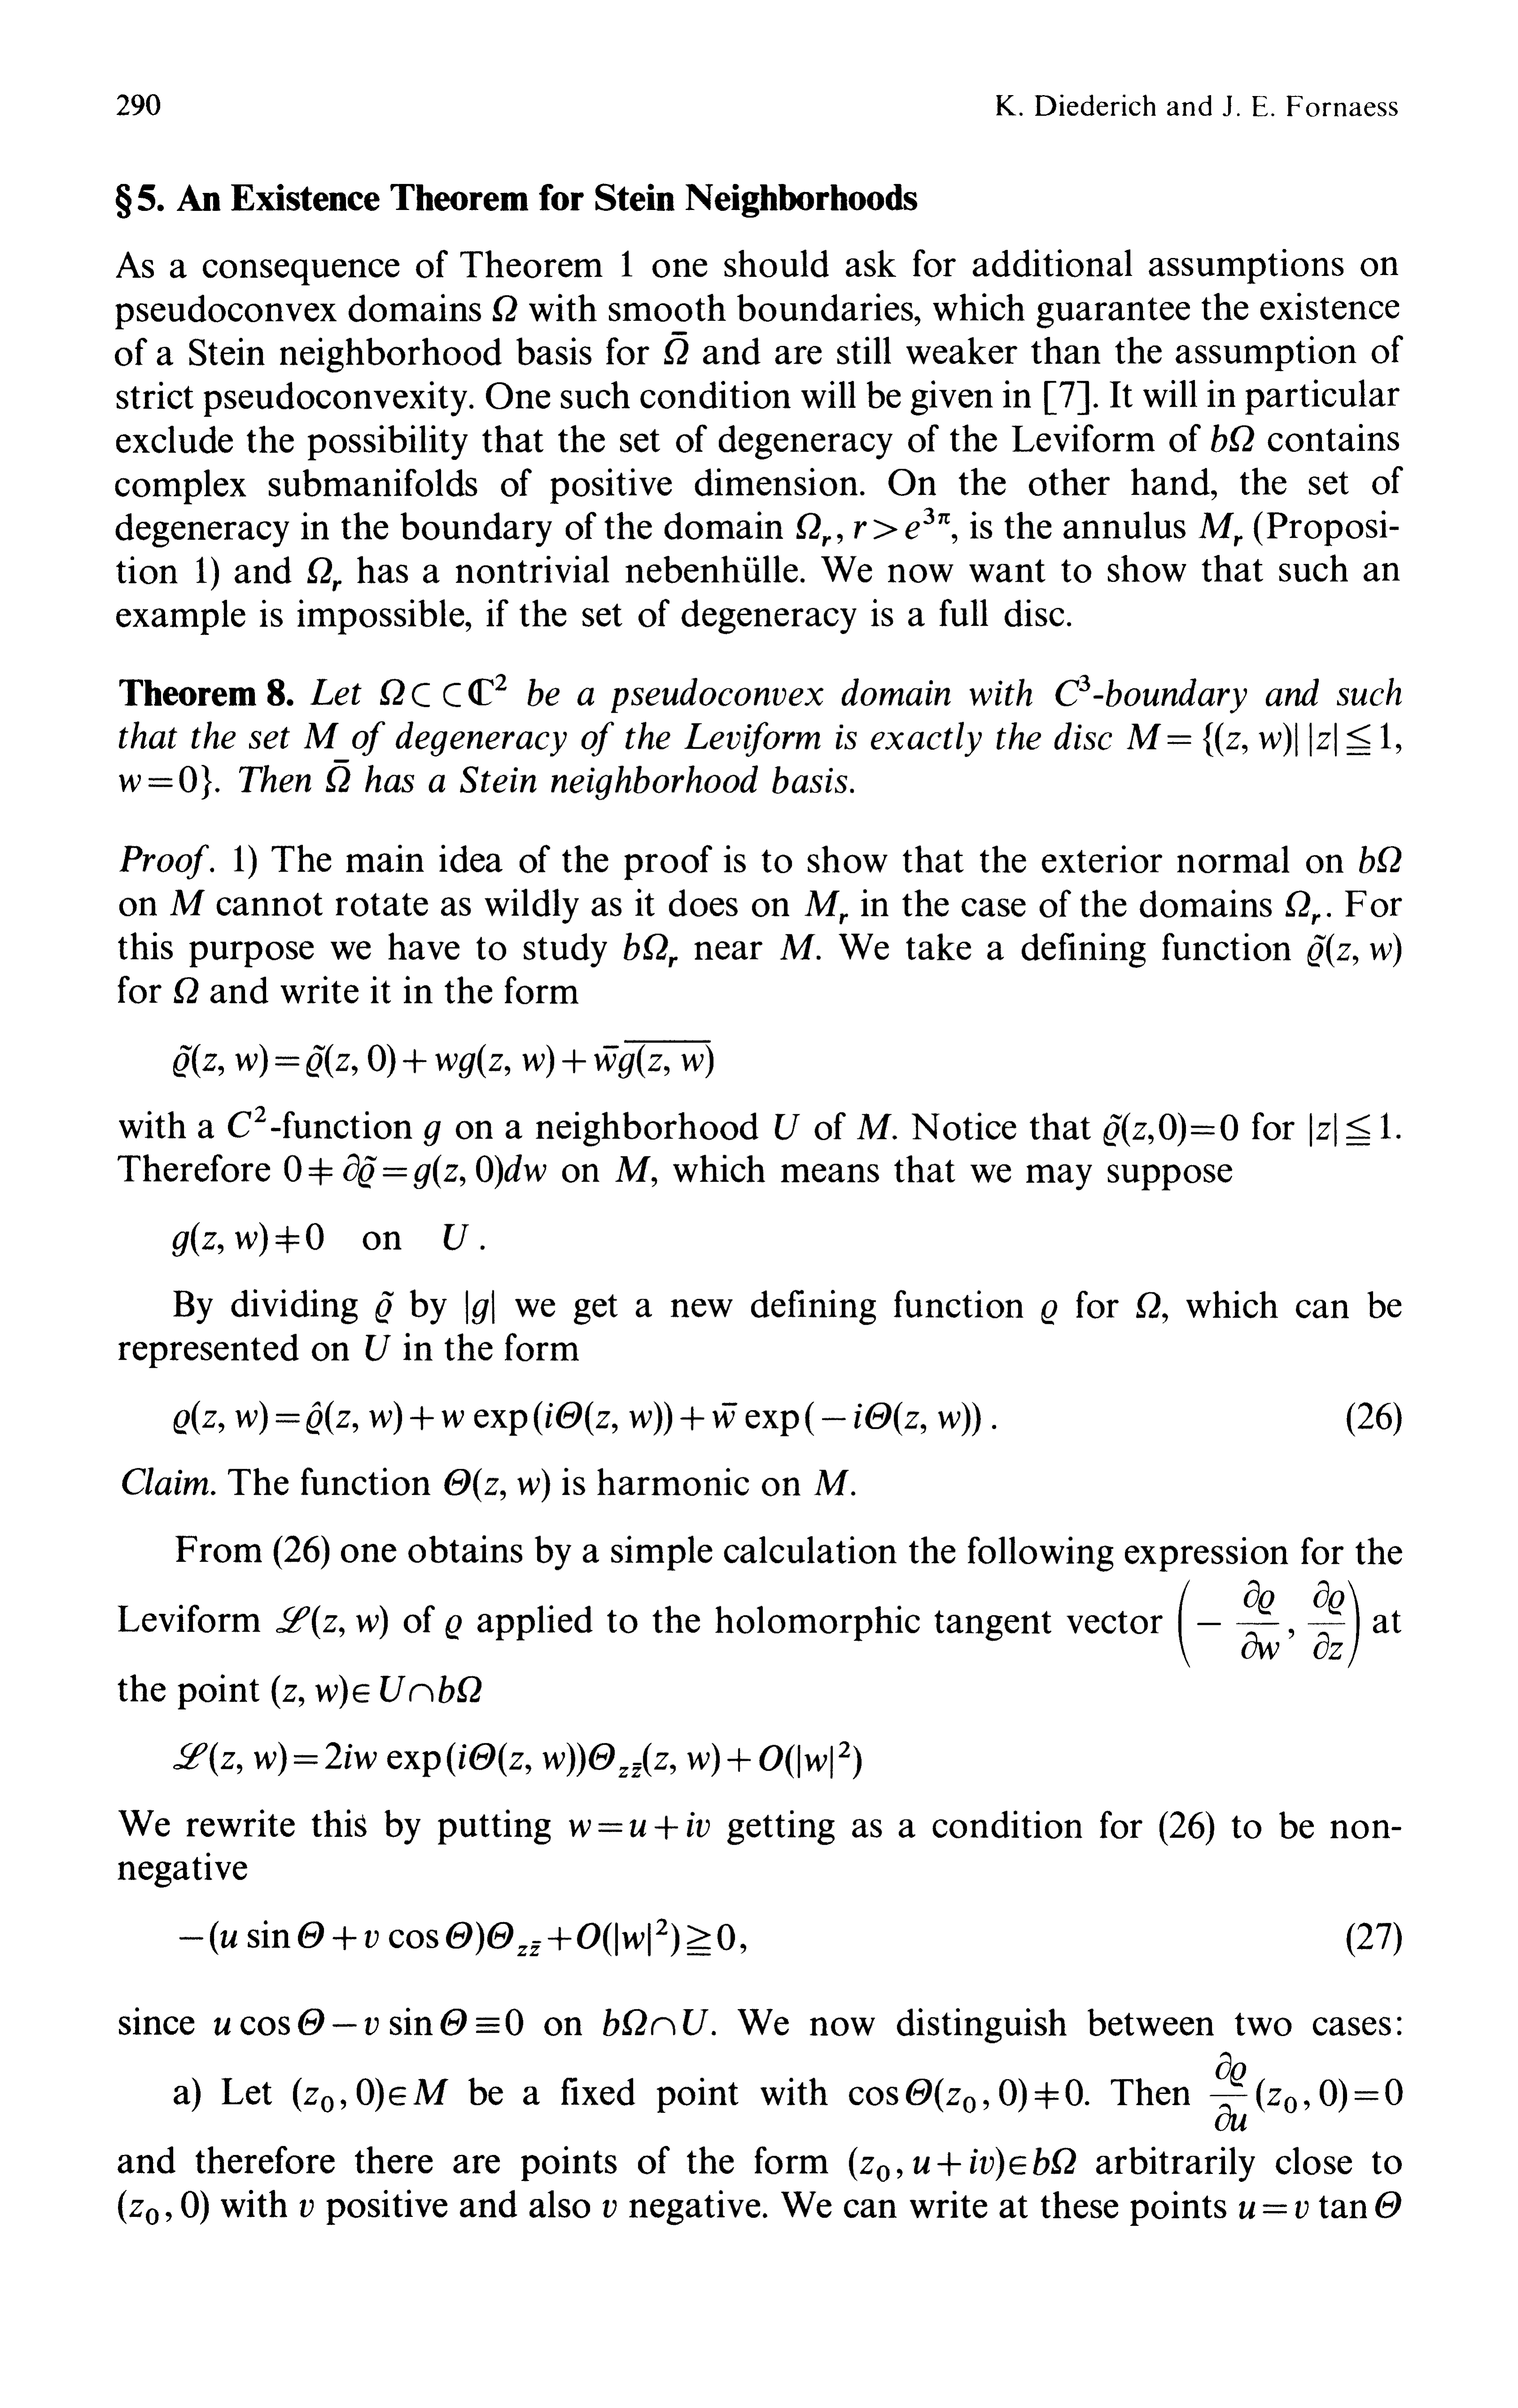maths: (173, 1401, 981, 1436), (173, 1742, 860, 1778), (180, 1918, 735, 1957), (173, 1040, 714, 1077), (1179, 1579, 1359, 1668), (1210, 2051, 1403, 2132), (1126, 722, 1401, 755), (285, 1154, 546, 1189), (213, 2008, 523, 2036), (850, 2077, 1083, 2112), (850, 2147, 1076, 2181), (271, 1675, 481, 1709), (292, 2077, 448, 2112), (171, 1222, 324, 1257), (1238, 2191, 1401, 2219), (1104, 1112, 1238, 1145), (379, 673, 505, 706), (568, 1812, 710, 1840), (276, 1605, 388, 1639), (444, 1469, 549, 1502), (119, 764, 212, 799), (1308, 932, 1401, 967), (117, 2189, 208, 2224), (853, 507, 950, 539), (603, 2009, 708, 2036), (1310, 1112, 1390, 1145), (624, 932, 677, 967), (1198, 512, 1242, 546), (804, 890, 848, 923), (227, 1105, 266, 1137), (1285, 890, 1320, 923), (797, 512, 831, 546), (308, 558, 341, 591), (1212, 425, 1254, 451), (1359, 846, 1401, 873), (1056, 675, 1090, 706), (465, 1291, 493, 1324), (304, 722, 338, 748), (170, 890, 205, 915), (780, 934, 815, 958), (857, 1114, 892, 1138), (616, 1156, 651, 1180), (325, 759, 350, 792), (815, 1471, 848, 1495), (665, 332, 687, 364), (775, 1114, 799, 1140), (444, 1224, 469, 1250), (366, 1334, 390, 1361), (173, 978, 198, 1002), (1137, 1292, 1159, 1319), (493, 296, 516, 320), (376, 1292, 393, 1324), (423, 1121, 441, 1145), (446, 1614, 462, 1640), (1042, 1301, 1056, 1326), (299, 2200, 313, 2217), (602, 2200, 616, 2217)
